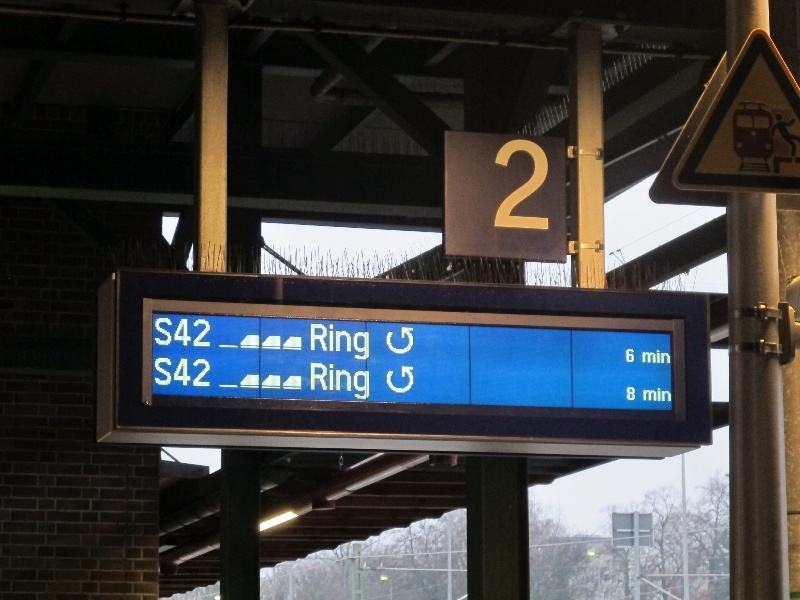text: (497, 138, 512, 232), (513, 138, 528, 232), (529, 138, 544, 232), (321, 323, 336, 363), (337, 323, 352, 363), (353, 323, 368, 363), (321, 363, 336, 402), (337, 363, 352, 402), (353, 363, 368, 402), (161, 316, 176, 349), (177, 316, 192, 349), (193, 316, 208, 349), (161, 356, 176, 388), (177, 356, 192, 388), (193, 356, 208, 388), (545, 138, 550, 232), (310, 323, 320, 363), (310, 363, 320, 402), (657, 388, 672, 402), (626, 349, 640, 363), (642, 350, 656, 364), (627, 386, 640, 401), (657, 350, 670, 364), (643, 388, 656, 402), (155, 316, 160, 349), (155, 356, 160, 388), (495, 138, 496, 232), (369, 363, 371, 402), (209, 316, 211, 349), (209, 356, 211, 388), (369, 323, 370, 363)
